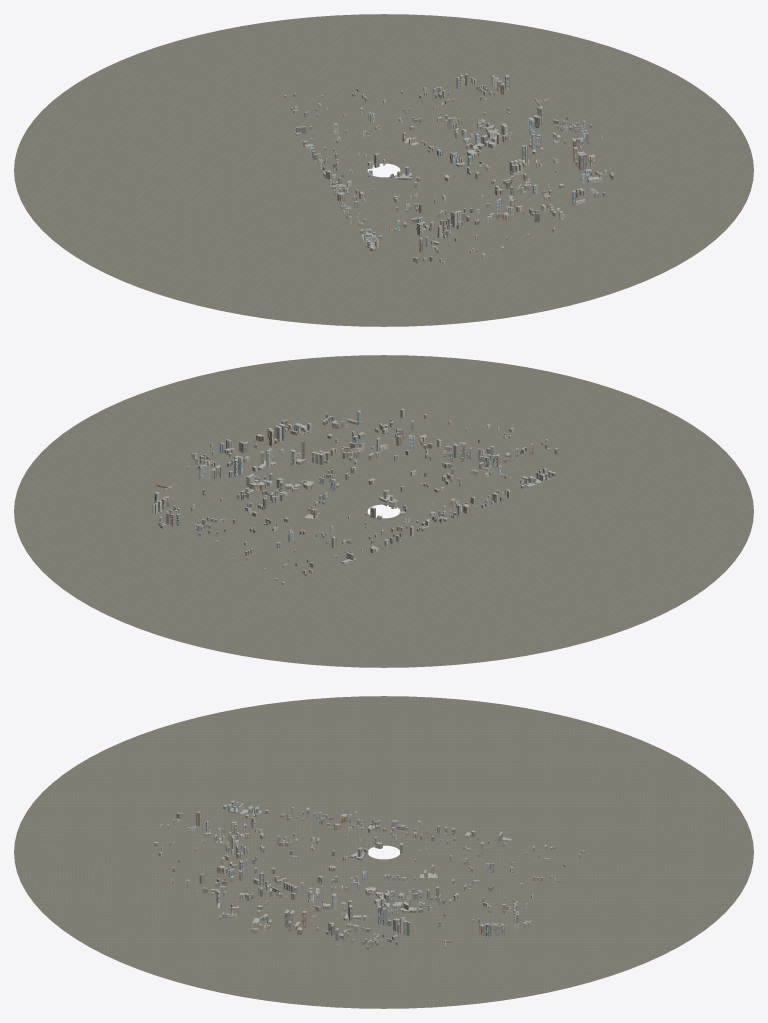
File: far.glb
3 renders of one model, top to bottom at view 1: azimuth 30°, elevation 25°; view 2: azimuth 150°, elevation 25°; view 3: azimuth 270°, elevation 25°, orthographic.
Parts seen in each view (by area): view 1: far_ground, far_roof, far_plaster, far_band, far_stone, far_glass; view 2: far_ground, far_roof, far_band, far_plaster, far_stone, far_glass; view 3: far_ground, far_roof, far_plaster, far_band, far_stone, far_glass.
Part boxes in pixels (left/top/right/bottom): far_ground: left=14, top=14, right=753, bottom=326; far_roof: left=284, top=73, right=614, bottom=261; far_plaster: left=294, top=75, right=606, bottom=264; far_band: left=290, top=74, right=614, bottom=263; far_stone: left=284, top=75, right=613, bottom=262; far_glass: left=310, top=75, right=591, bottom=248; far_ground: left=14, top=355, right=753, bottom=667; far_roof: left=153, top=408, right=558, bottom=582; far_band: left=160, top=414, right=558, bottom=581; far_plaster: left=152, top=409, right=550, bottom=573; far_stone: left=156, top=414, right=555, bottom=584; far_glass: left=154, top=411, right=551, bottom=548; far_ground: left=14, top=696, right=753, bottom=1008; far_roof: left=154, top=800, right=584, bottom=946; far_plaster: left=154, top=803, right=555, bottom=947; far_band: left=169, top=810, right=581, bottom=945; far_stone: left=167, top=805, right=584, bottom=949; far_glass: left=206, top=801, right=516, bottom=941.
Size of the model in its own units: 8000 by 300 by 8000.
Materials: 6 (6 with a texture image).
